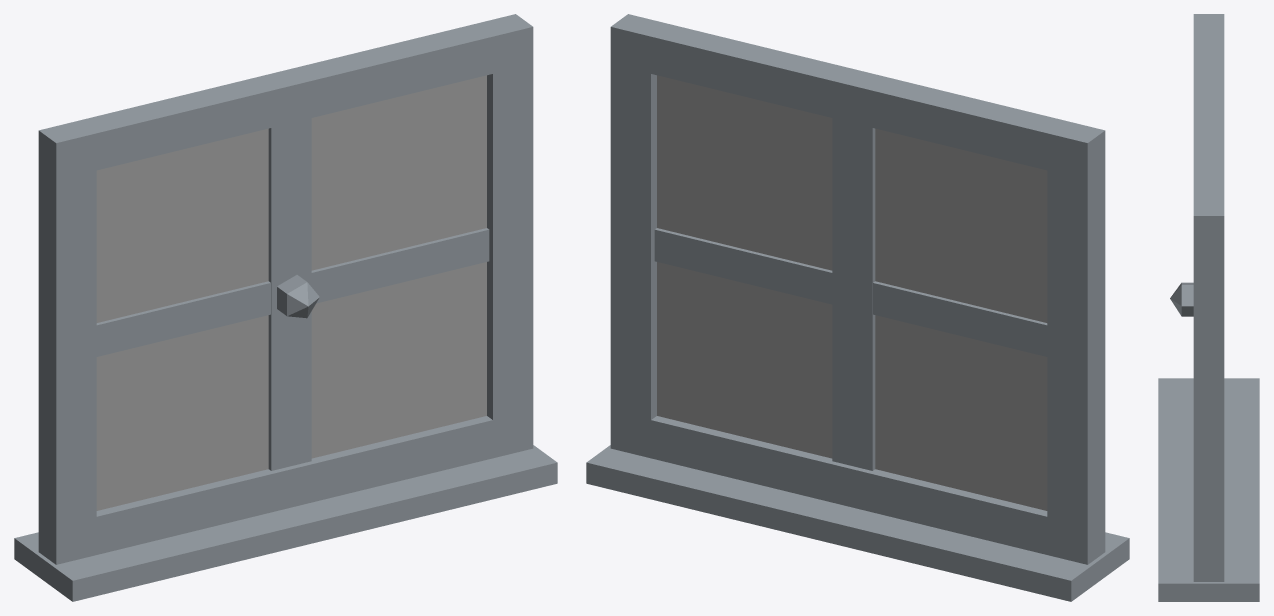
The model's file is Window_2A.fbx.
The picture shows the model from 3 angles, left to right: view 1: azimuth 30°, elevation 25°; view 2: azimuth 150°, elevation 25°; view 3: azimuth 270°, elevation 25°; orthographic projection. The views are drawn at different scales.
Visible parts, largest first — view 1: polySurface1841, Window_Glass_; view 2: polySurface1841, Window_Glass_; view 3: polySurface1841.
Part boxes in pixels (x1,y1,x2,y2): polySurface1841: (14, 14, 557, 601); Window_Glass_: (96, 75, 486, 510); polySurface1841: (586, 14, 1129, 601); Window_Glass_: (657, 75, 1047, 510); polySurface1841: (1158, 14, 1259, 601).
Size of the model in its own units: 2.4 by 2.09 by 0.5.
2 materials, 1 textured.
